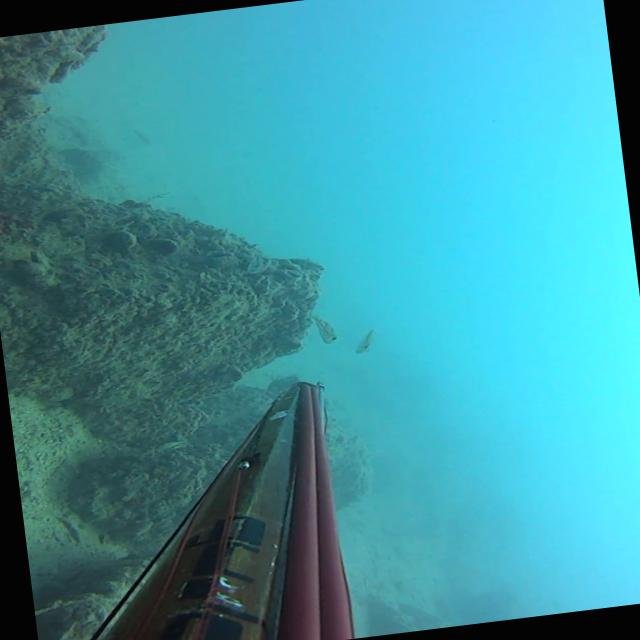Balon Baligi: (307, 310, 337, 345), (351, 329, 376, 354)
